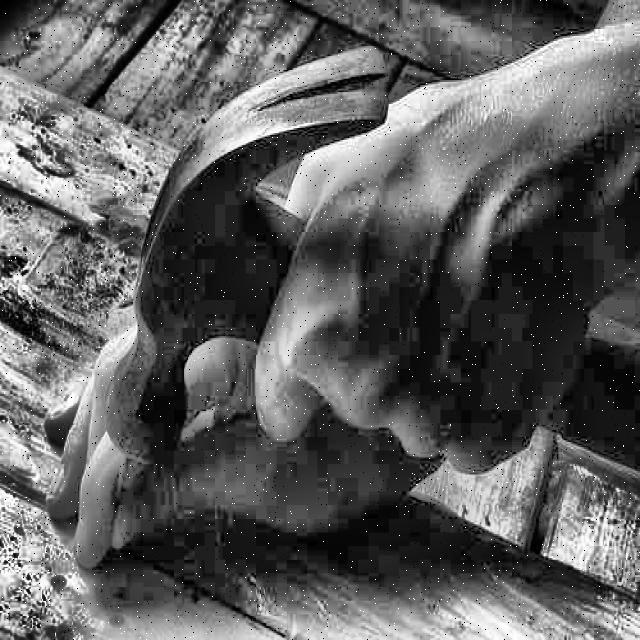hammer: (101, 35, 640, 567)
